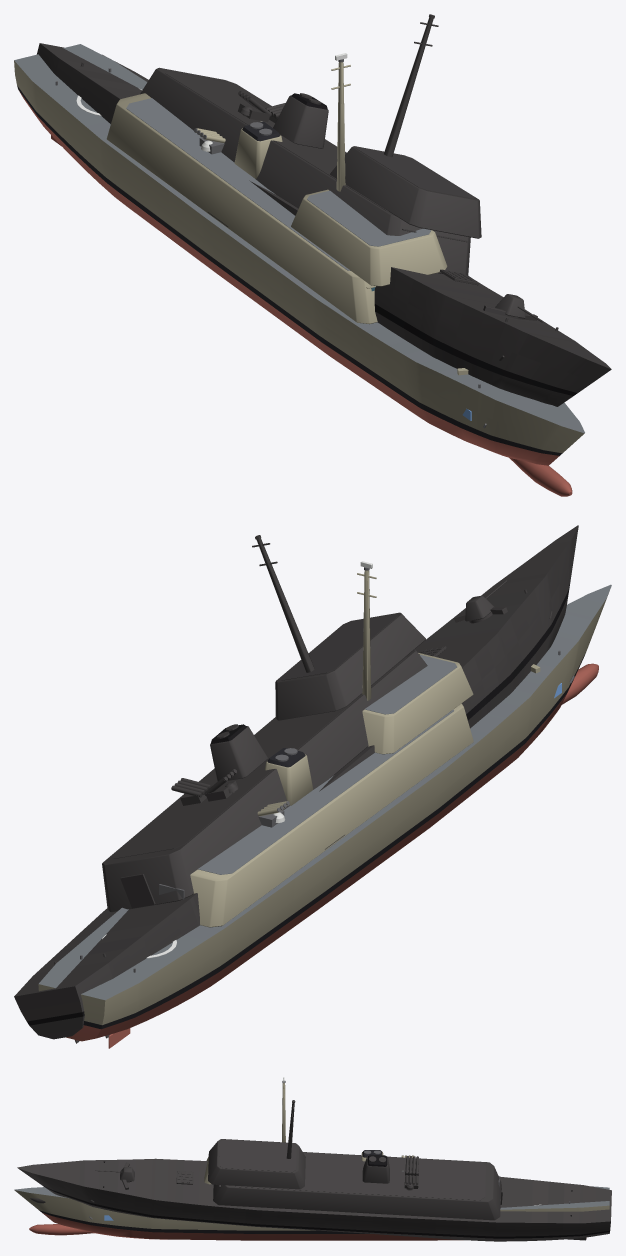
Rendered from asFrigate__chungnam_class.glb.
The picture shows the model from 3 angles, top to bottom: view 1: azimuth 30°, elevation 25°; view 2: azimuth 150°, elevation 25°; view 3: azimuth 270°, elevation 25°; orthographic projection. The views are drawn at different scales.
Parts seen in each view (by area): view 1: Hull_Mesh, Wreck; view 2: Hull_Mesh, Wreck; view 3: Wreck, Hull_Mesh.
Boxes of the visible parts, x1,y1,x2,y2 form: Hull_Mesh: (14, 44, 584, 496); Wreck: (37, 14, 611, 406); Hull_Mesh: (38, 570, 611, 1048); Wreck: (14, 525, 578, 1043); Wreck: (17, 1100, 611, 1241); Hull_Mesh: (14, 1083, 609, 1240).
Size of what is drawn, in the model's own units: 22.67 by 40.44 by 135.
